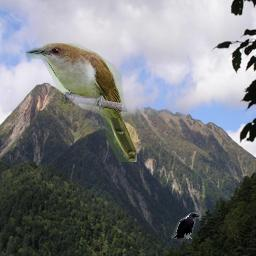Crow: (171, 212, 199, 244)
Cuckoo: (26, 43, 137, 162)
